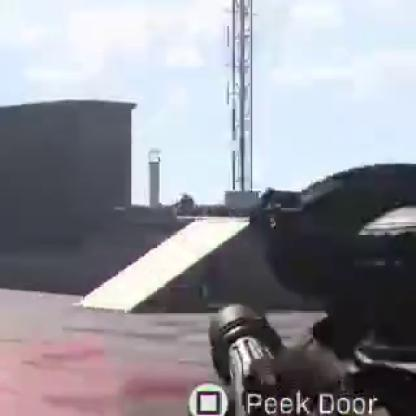enemy: (172, 193, 198, 217)
